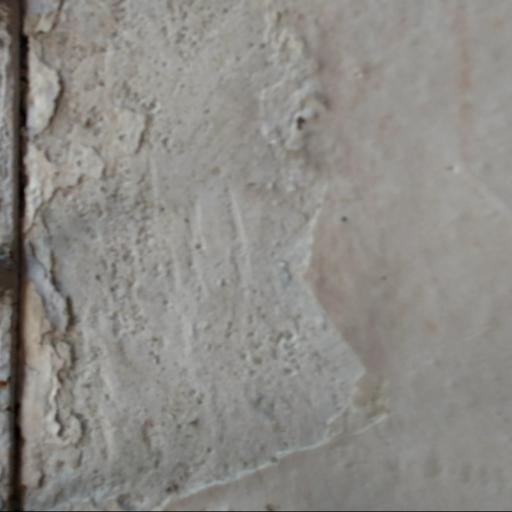peeling: (0, 0, 396, 500)
